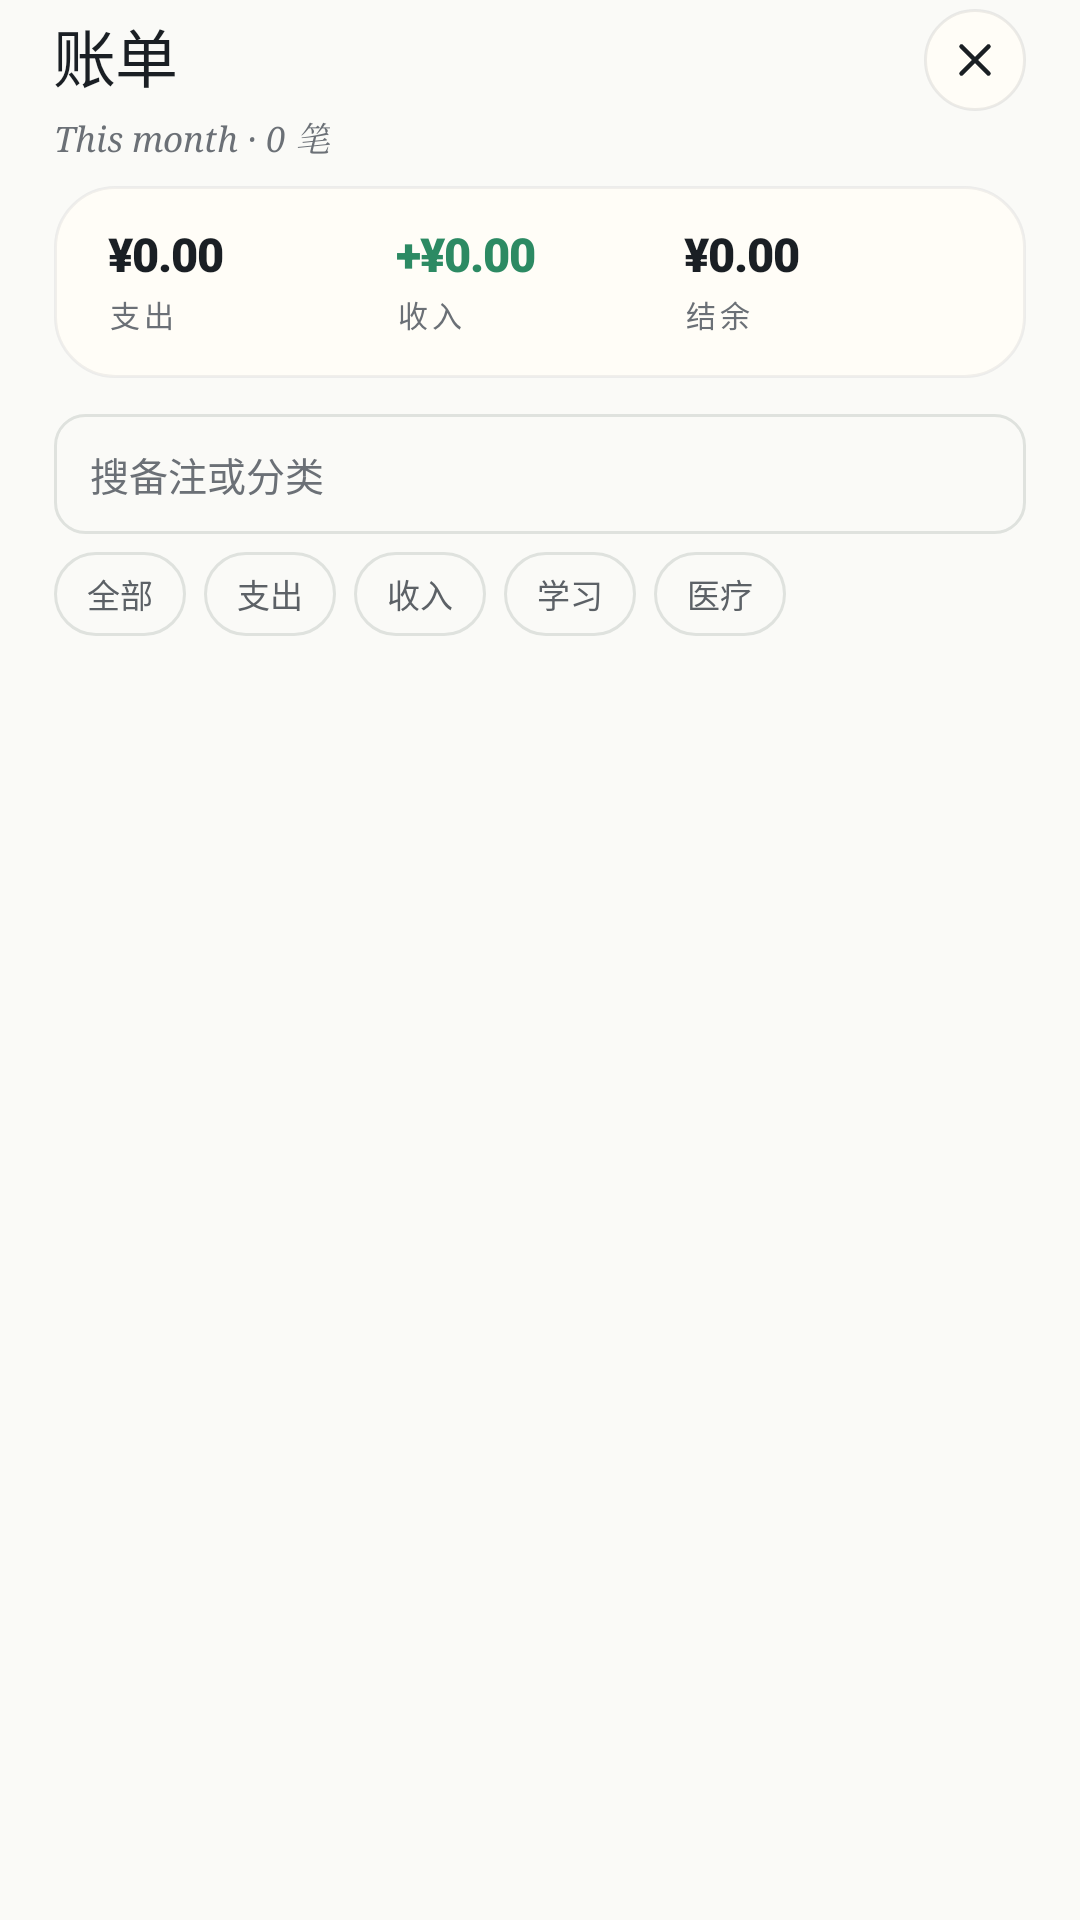

Icon bounding boxes for this 1080 x 1920 phone screenshot, format (x1, y1, x2, y2):
关闭账单页返回: (959, 44, 991, 76)
